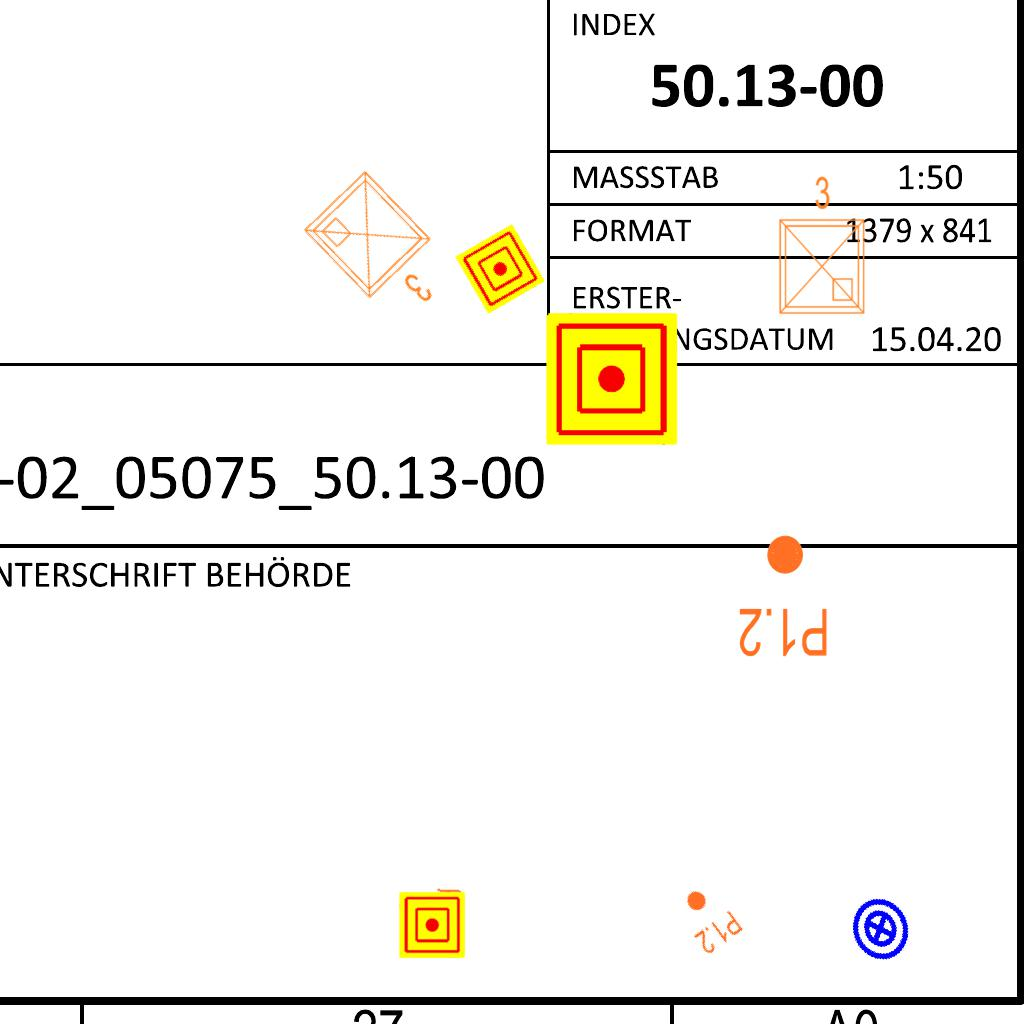Downlight_LED_Einbauleuchten_Flur: (737, 532, 830, 660), (670, 878, 746, 958), (396, 885, 464, 935)
Einbaudownlights_LED_Konferenzraeume: (293, 157, 473, 339), (768, 171, 872, 321)
NAM-Nichtautomatischer_Melder: (546, 313, 678, 445), (454, 223, 546, 315), (399, 892, 465, 958)
Taster_beleuchtet: (837, 886, 923, 972)
